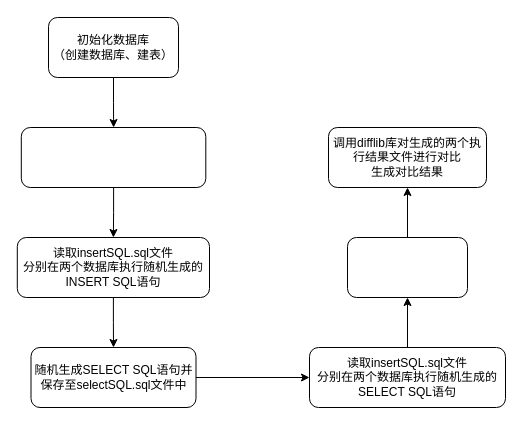
Image size: 524x425. Some labels were removed from this diagram. The centre of each missing label's shape, as x and y in pixels:
分别输出执行结果至两个文件: the point at 407,267
随机生成数据构建INSERT语句并保存至insertSQL.sql文件中: the point at 113,157
